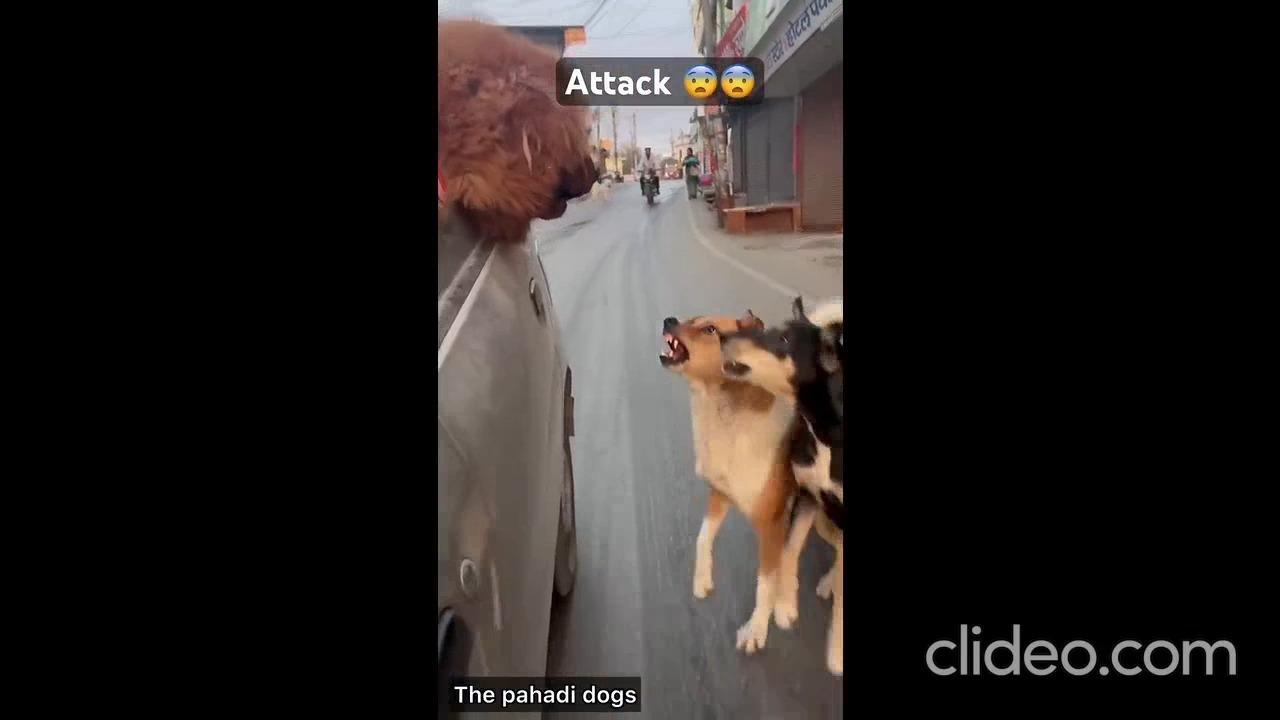dog: (717, 288, 848, 675), (656, 302, 783, 659)
